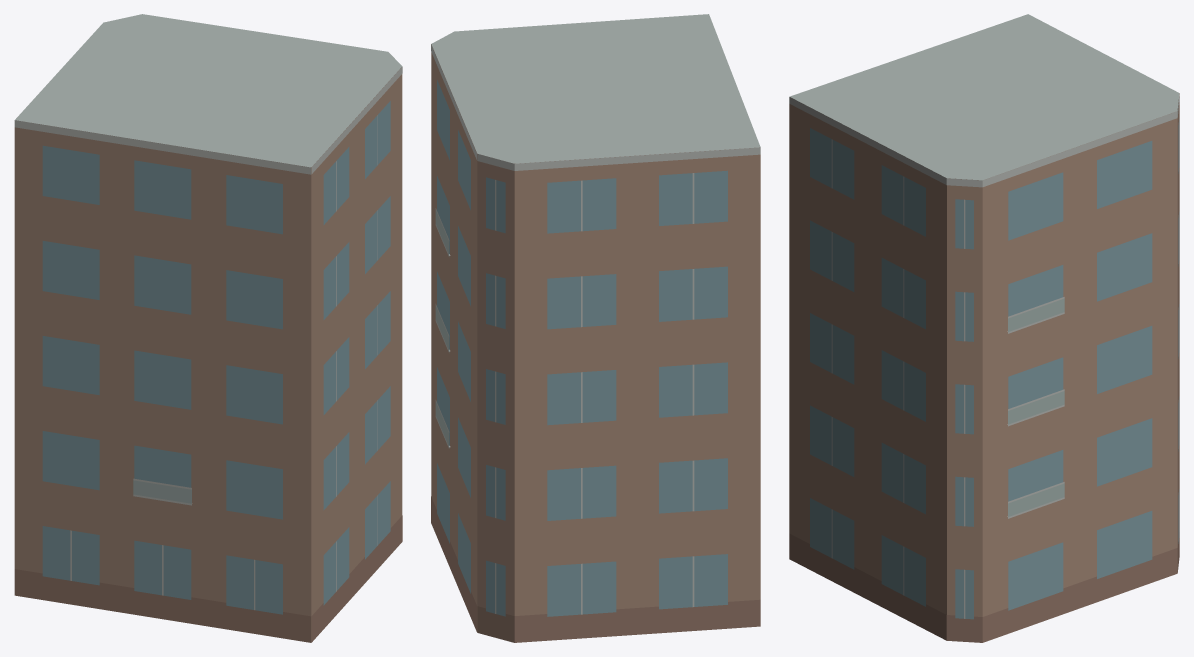
The model's file is survey-upis-32923746.glb.
3 views of the same model, side by side, from view 1: azimuth 30°, elevation 25°; view 2: azimuth 150°, elevation 25°; view 3: azimuth 270°, elevation 25° (orthographic). The views are drawn at different scales.
Visible parts, largest first — view 1: survey-upis-32923746.tmp; view 2: survey-upis-32923746.tmp; view 3: survey-upis-32923746.tmp.
Boxes of the visible parts, <box> form: survey-upis-32923746.tmp: <box>14,14,402,642</box>; survey-upis-32923746.tmp: <box>431,14,760,642</box>; survey-upis-32923746.tmp: <box>789,14,1179,642</box>.
Bounding box in the file's own units: 12.39 × 16.05 × 12.28.
